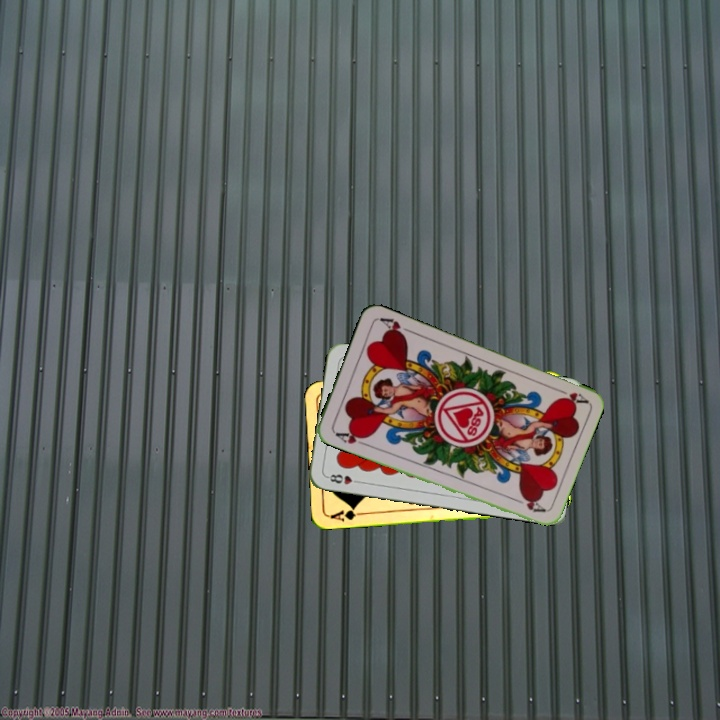GA: (326, 503, 367, 524)
H8: (323, 470, 363, 487)
HA: (550, 384, 589, 406), (331, 427, 370, 448)
